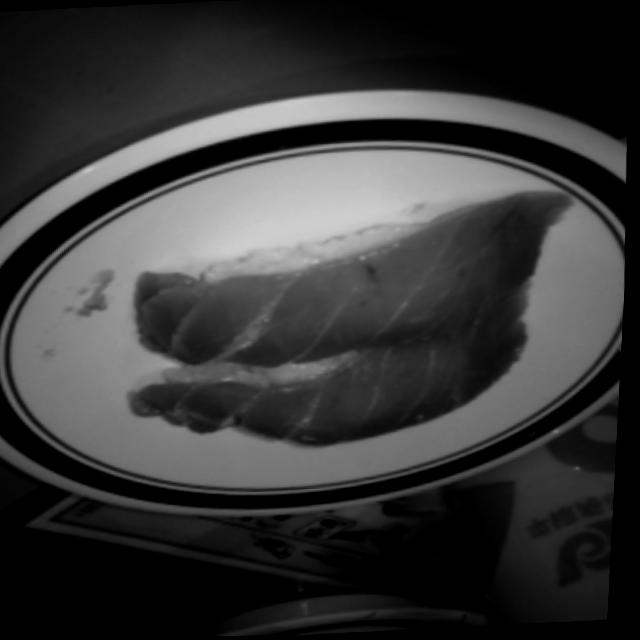寿司卷物: (113, 185, 583, 378), (126, 335, 534, 463)
